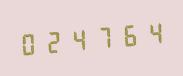four: (66, 22, 89, 56), (138, 16, 161, 49)
seven: (90, 20, 113, 54)
six: (114, 18, 137, 51)
two: (41, 24, 64, 58)
zero: (17, 26, 40, 60)
